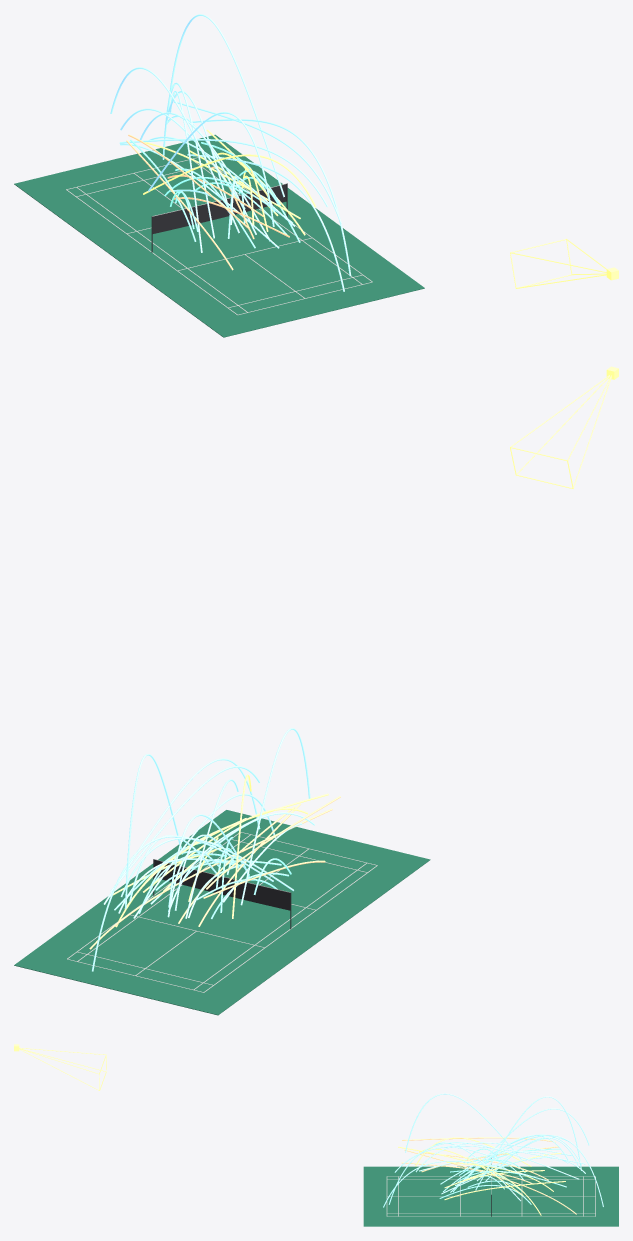
File: court_scene.glb
The picture shows the model from 3 angles, top to bottom: view 1: azimuth 30°, elevation 25°; view 2: azimuth 150°, elevation 25°; view 3: azimuth 270°, elevation 25°; orthographic projection. The views are drawn at different scales.
Visible parts, largest first — view 1: floor, traj19, traj3, traj20, traj34, traj6, traj9, traj10, traj28, traj39; view 2: floor; view 3: floor, traj3, traj19, traj9, traj20, traj39, traj6.
Part boxes in pixels (x1,y1,x2,y2): floor: [14, 134, 424, 337]; traj19: [166, 14, 284, 197]; traj3: [192, 119, 351, 276]; traj20: [148, 112, 274, 226]; traj34: [110, 67, 239, 233]; traj6: [119, 138, 328, 207]; traj9: [174, 101, 341, 223]; traj10: [187, 154, 344, 291]; traj28: [143, 154, 316, 207]; traj39: [162, 82, 214, 238]; floor: [14, 810, 430, 1015]; floor: [363, 1166, 618, 1226]; traj3: [388, 1142, 578, 1204]; traj19: [475, 1096, 581, 1190]; traj9: [394, 1145, 585, 1172]; traj20: [405, 1093, 521, 1159]; traj39: [464, 1135, 603, 1206]; traj6: [415, 1142, 572, 1172].
Size of the model in its own units: 9.1 by 10.82 by 38.84.
